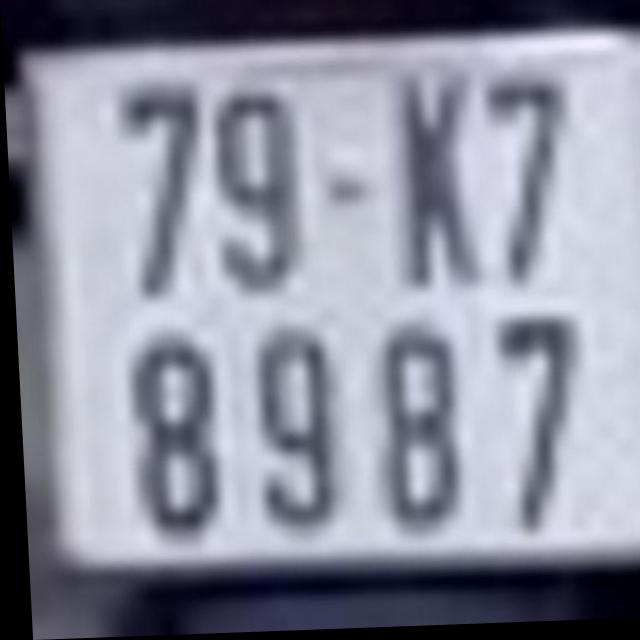7: (495, 319, 577, 532), (116, 85, 199, 294), (484, 80, 567, 288)
8: (127, 340, 216, 533), (377, 328, 461, 528)
9: (209, 91, 303, 298), (253, 330, 329, 532)
K: (396, 74, 479, 290)
